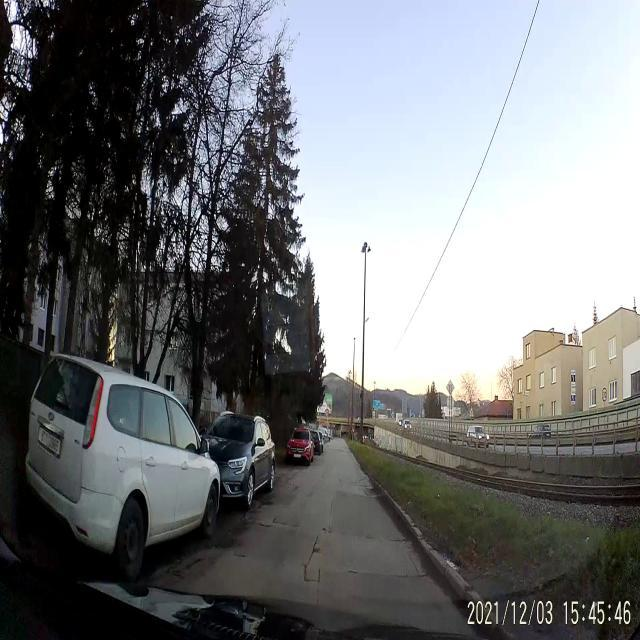Pothole: (308, 536, 322, 558)
